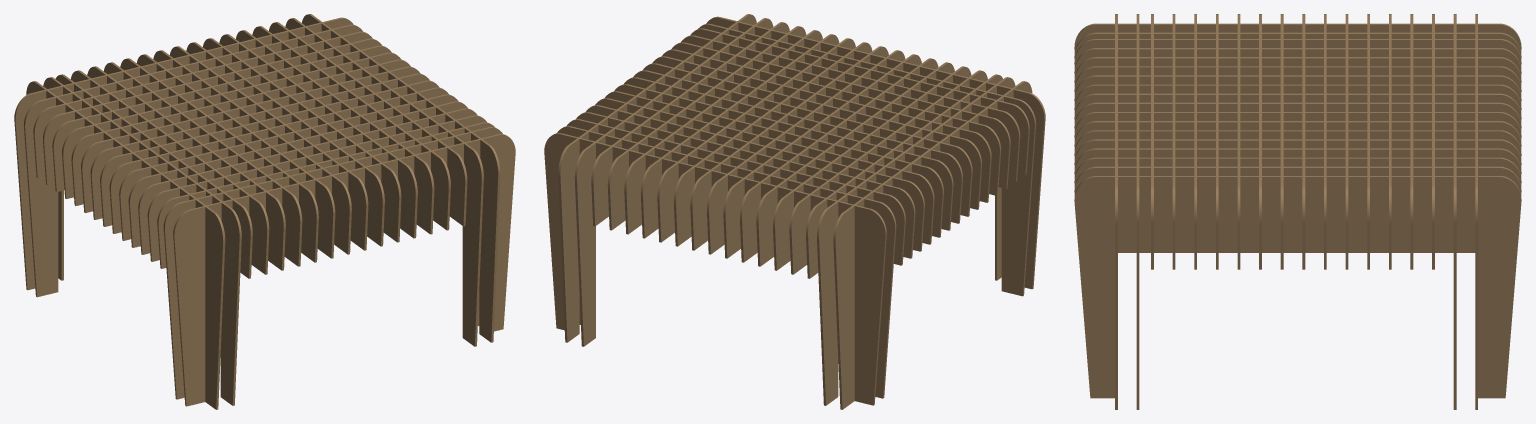
3 views of the same model, side by side, from view 1: azimuth 30°, elevation 25°; view 2: azimuth 150°, elevation 25°; view 3: azimuth 270°, elevation 25° (orthographic). The views are drawn at different scales.
Visible parts, largest first — view 1: Composant_2 (×56), Composant_1 (×16); view 2: Composant_2 (×56), Composant_1 (×16); view 3: Composant_2 (×42), Composant_1 (×12).
Boxes of the visible parts, box(x1,y1,x2,y2) form: Composant_2 (×56): box(33, 22, 494, 278); Composant_1 (×16): box(14, 14, 515, 409); Composant_2 (×56): box(566, 22, 1029, 278); Composant_1 (×16): box(544, 14, 1045, 409); Composant_2 (×42): box(1074, 39, 1521, 269); Composant_1 (×12): box(1074, 23, 1521, 409).
Size of the model in its own units: 30.98 by 30.98 by 16.93.
